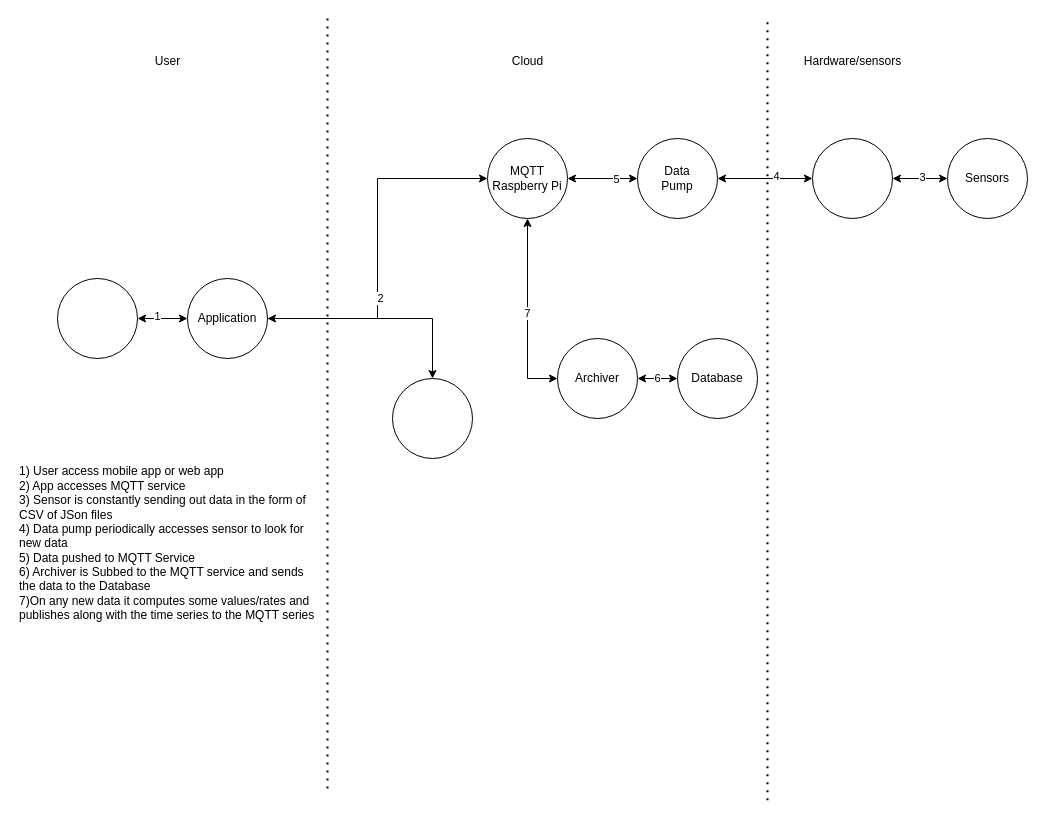
The diagram is 1045 pixels wide and 819 high, and some of its shapes have lost their labels. Here are the shapes that lost their labels. From the top down, the box of each, then its label:
(812, 138, 892, 218): CSV files
(56, 278, 138, 358): User (me)
(392, 378, 472, 458): API
